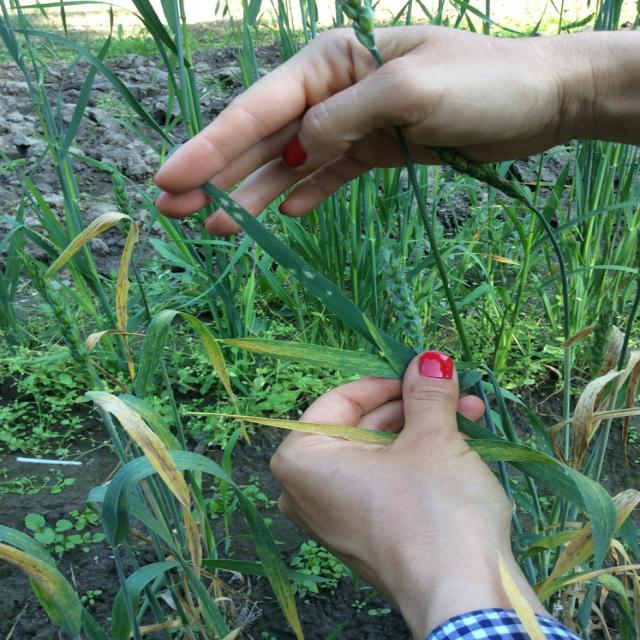wheat-powdery-mildew: (205, 180, 353, 323)
